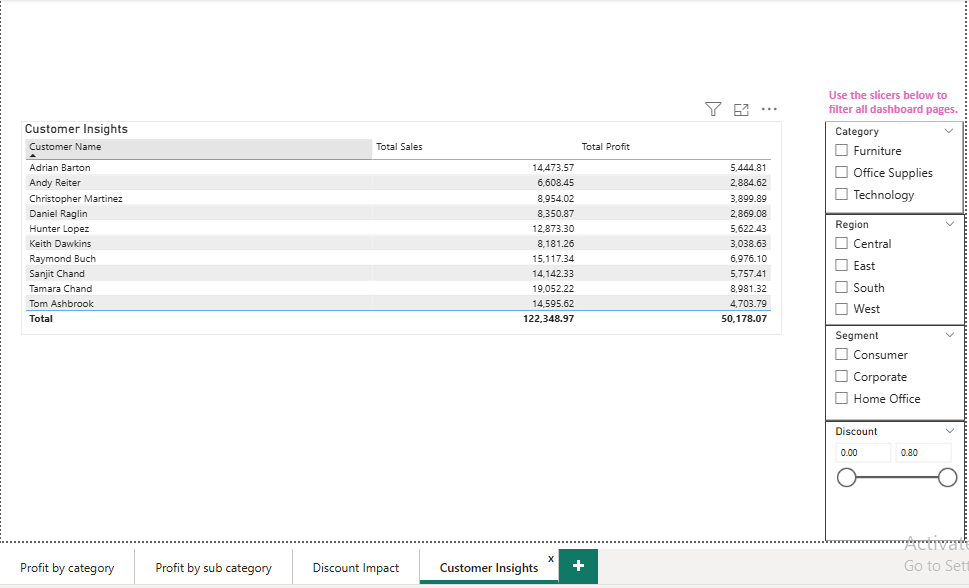

This screenshot's page, from the dashboard's own definition file:
{"tool":"powerbi","page":{"name":"Customer Insights","canvas":[1280,720],"ordinal":3},"visuals":[{"type":"tableEx","title":"Customer Insights","fields":{"Values":["Superstore_Cleaned.Customer Name","Superstore_Cleaned.Total Sales","Superstore_Cleaned.Total Profit"]},"box":[26.3,162.4,1011.2,283.9],"z":0},{"type":"slicer","fields":{"Values":["Superstore_Cleaned.Category"]},"box":[1094.6,162.4,184.4,122.9],"z":2000},{"type":"slicer","fields":{"Values":["Superstore_Cleaned.Region"]},"box":[1094.6,285.4,185.9,147.8],"z":3000},{"type":"slicer","fields":{"Values":["Superstore_Cleaned.Segment"]},"box":[1094.6,433.2,185.9,127.3],"z":4000},{"type":"slicer","fields":{"Values":["Superstore_Cleaned.Discount"]},"box":[1094.6,560.5,185.9,159.5],"z":5000},{"type":"textbox","box":[1094.6,112.7,184.4,49.8],"z":5001}]}

Visuals, with their boxes on the page's 1280x720 design canvas (x1, y1, x2, y2). These are canvas units, not pixel positions in the 969x588 screenshot, which may show the page scaled, cropped or inside an application window:
"Customer Insights" tableEx: x1=26 y1=162 x2=1038 y2=446
slicer - Superstore_Cleaned.Category: x1=1095 y1=162 x2=1279 y2=285
slicer - Superstore_Cleaned.Region: x1=1095 y1=285 x2=1280 y2=433
slicer - Superstore_Cleaned.Segment: x1=1095 y1=433 x2=1280 y2=560
slicer - Superstore_Cleaned.Discount: x1=1095 y1=560 x2=1280 y2=720
textbox: x1=1095 y1=113 x2=1279 y2=162
